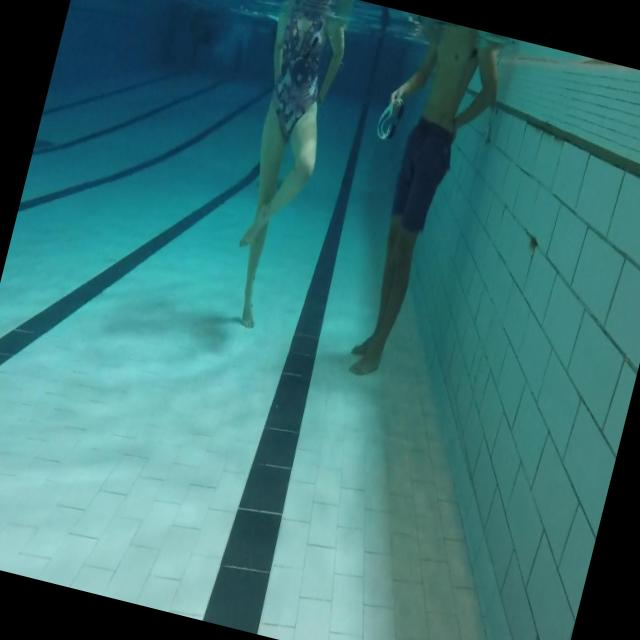human: (322, 13, 512, 392), (201, 0, 357, 334)
